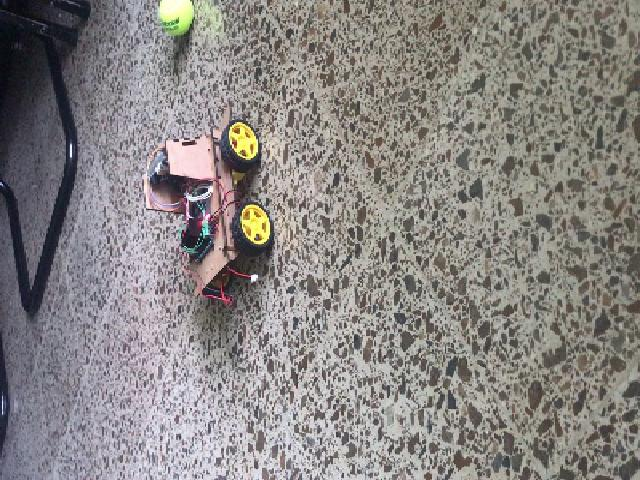Ball: (157, 0, 194, 32)
Robot: (144, 106, 272, 296)
